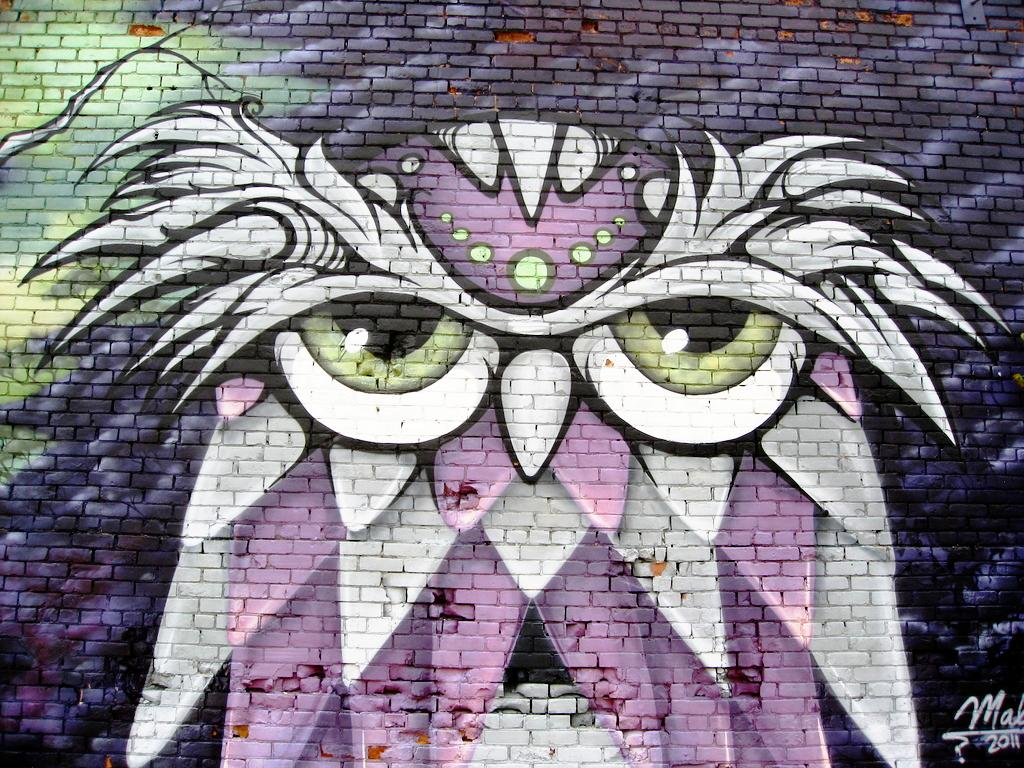Owl: (21, 88, 1023, 767)
